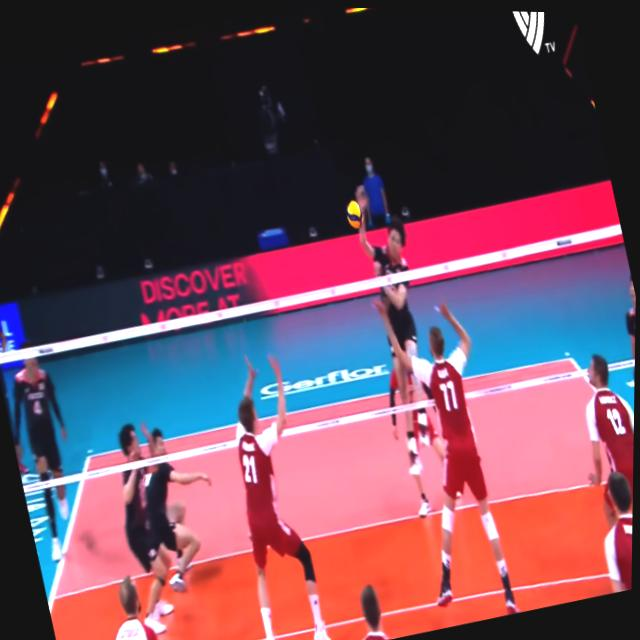player: (373, 280, 530, 620), (204, 345, 344, 640), (345, 173, 458, 472), (0, 343, 99, 569), (101, 409, 191, 637), (133, 415, 236, 599), (563, 339, 636, 583), (89, 565, 169, 640), (588, 470, 635, 590)
